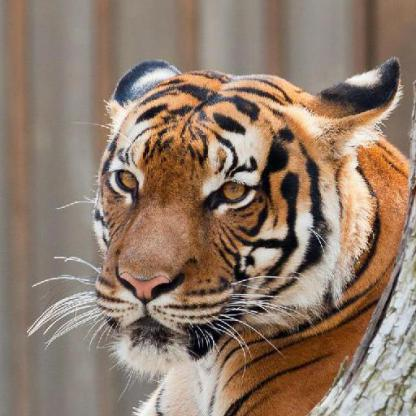tiger: (81, 66, 405, 362)
